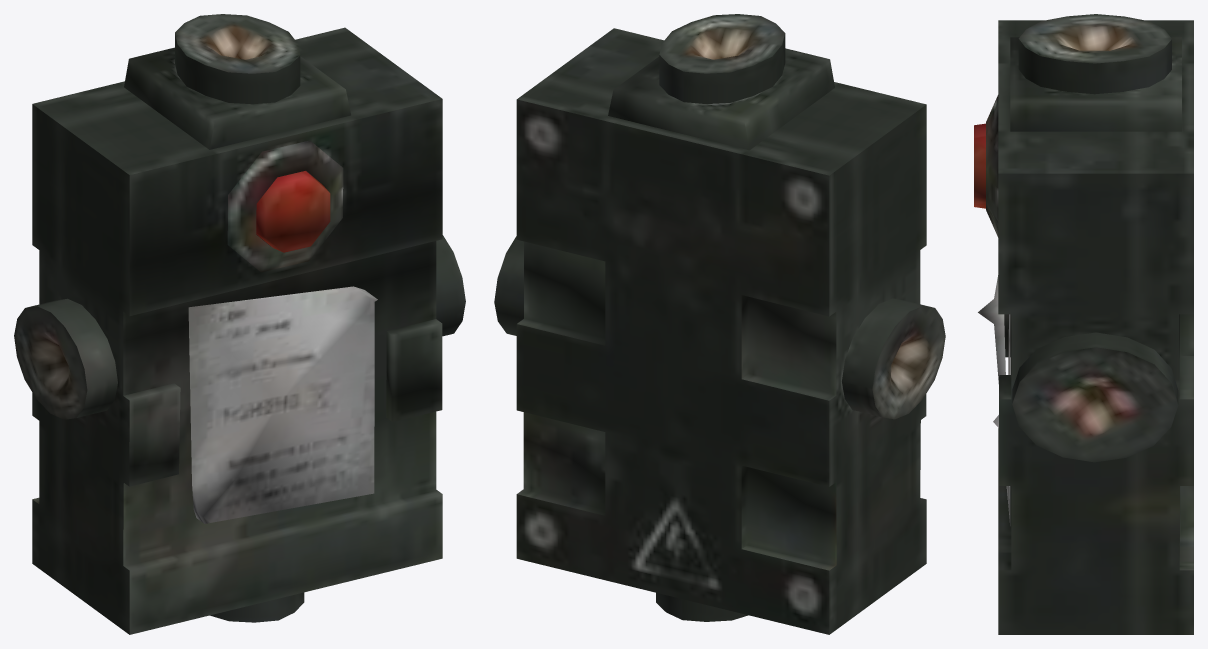
File: electric.bulbstringlights.deployed.glb
3 renders of one model, left to right at view 1: azimuth 30°, elevation 25°; view 2: azimuth 150°, elevation 25°; view 3: azimuth 270°, elevation 25°, orthographic.
Parts seen in each view (by area): view 1: xmas_controlbox_LOD0; view 2: xmas_controlbox_LOD0; view 3: xmas_controlbox_LOD0.
Boxes of the visible parts, x1,y1,x2,y2 form: xmas_controlbox_LOD0: (14, 14, 465, 634); xmas_controlbox_LOD0: (494, 14, 945, 634); xmas_controlbox_LOD0: (974, 14, 1193, 634).
Size of the model in its own units: 0.1578 by 0.2207 by 0.0802.
1 material, 1 textured.
